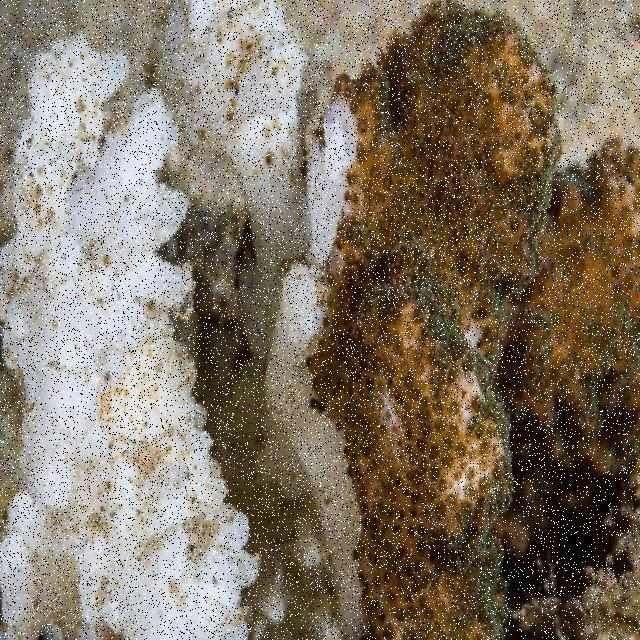Bleached: (1, 3, 350, 621)
